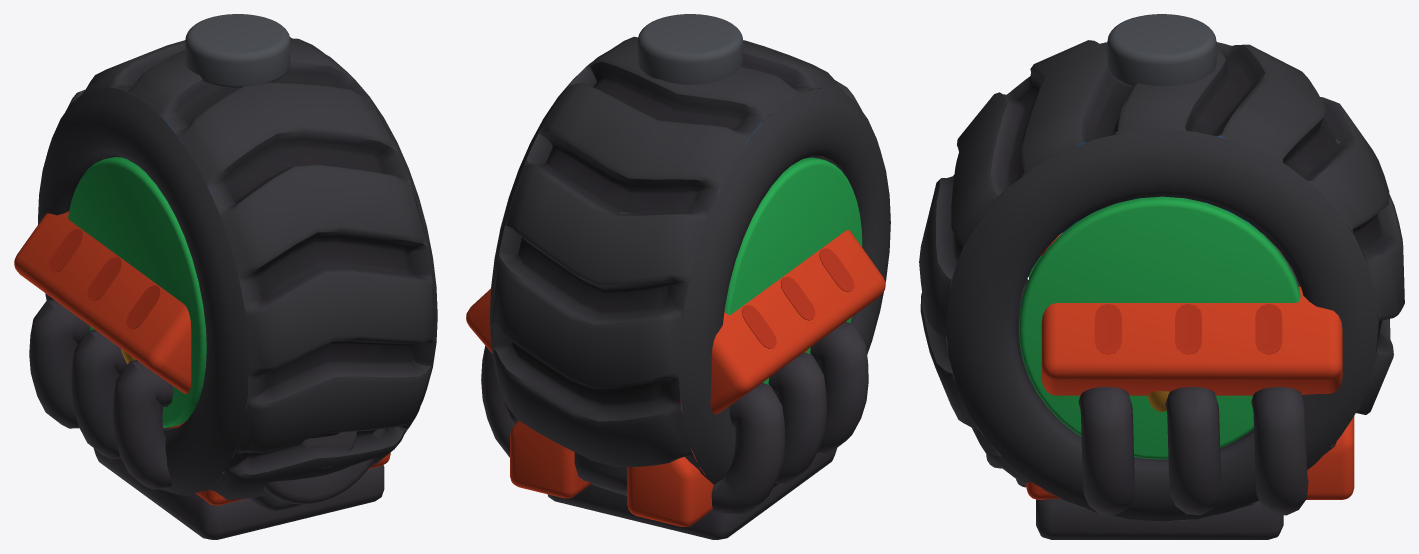
Rendered from items.glb.
3 renders of one model, left to right at view 1: azimuth 30°, elevation 25°; view 2: azimuth 150°, elevation 25°; view 3: azimuth 270°, elevation 25°, orthographic. The views are drawn at different scales.
Parts seen in each view (by area): view 1: pickup_grip, pickup_engine, pickup_nitro; view 2: pickup_grip, pickup_engine, pickup_nitro; view 3: pickup_grip, pickup_engine, pickup_nitro.
Boxes of the visible parts, x1,y1,x2,y2 form: pickup_grip: (38,37,437,500); pickup_engine: (14,91,390,539); pickup_nitro: (166,14,290,193); pickup_grip: (489,36,890,495); pickup_engine: (466,212,885,539); pickup_nitro: (637,14,762,193); pickup_grip: (919,40,1404,521); pickup_engine: (986,139,1354,539); pickup_nitro: (1059,14,1257,235).
Bounding box in the file's own units: 1.38 × 2 × 1.89.
